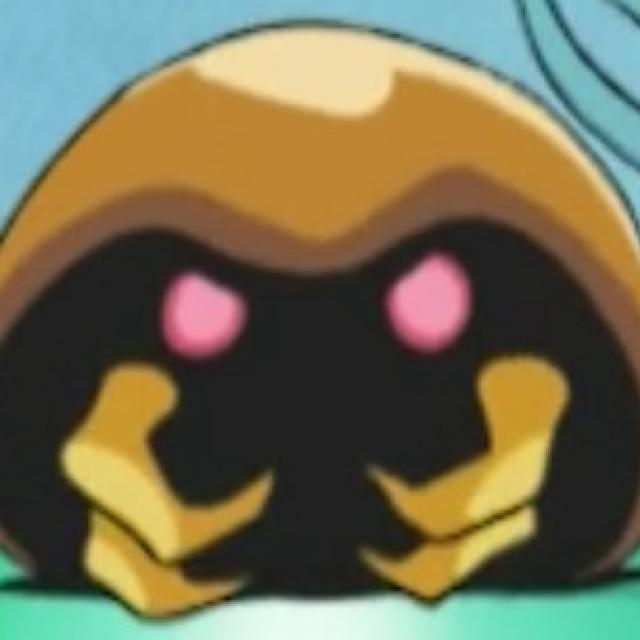Kabuto: (2, 11, 611, 640)
